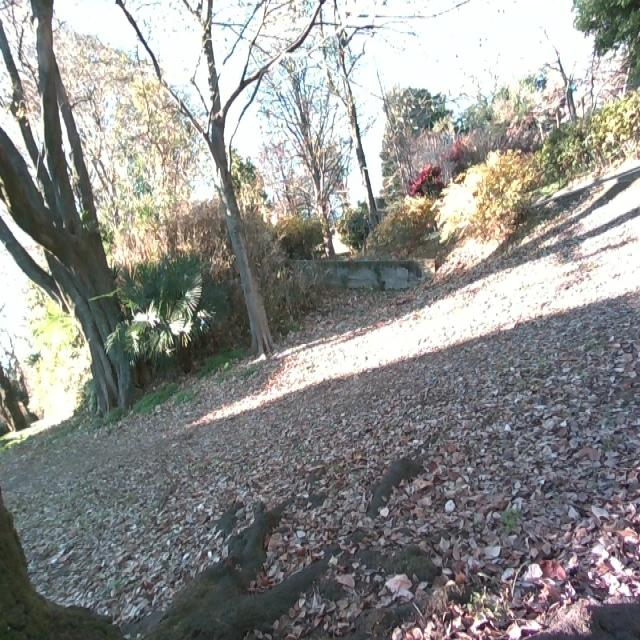bush: (432, 151, 546, 245), (546, 88, 640, 176), (358, 197, 446, 266)
tree: (116, 0, 330, 360), (1, 486, 421, 640), (0, 0, 156, 401), (253, 35, 353, 268), (310, 0, 396, 235), (544, 20, 592, 126)
